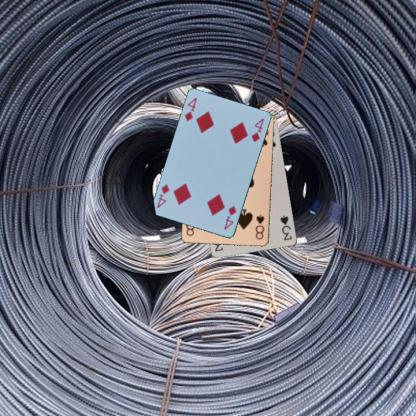3s: (278, 212, 293, 242)
4d: (221, 203, 238, 231), (182, 95, 198, 123)
8s: (253, 212, 266, 241)
